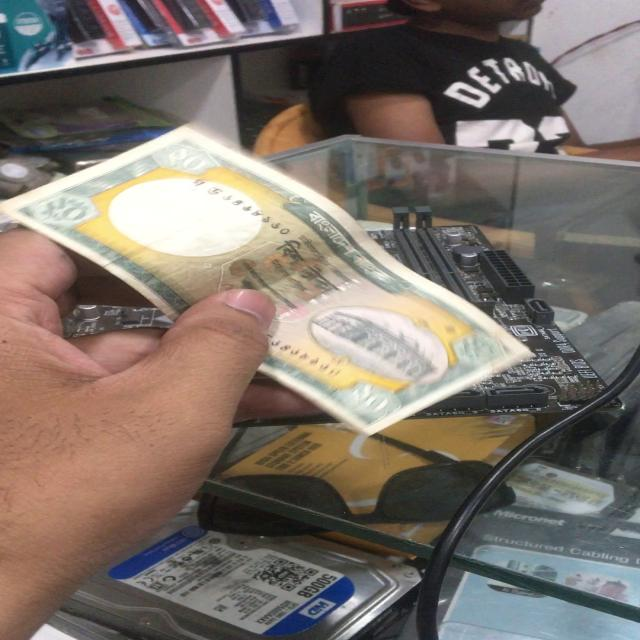Taka: (38, 128, 535, 436)
